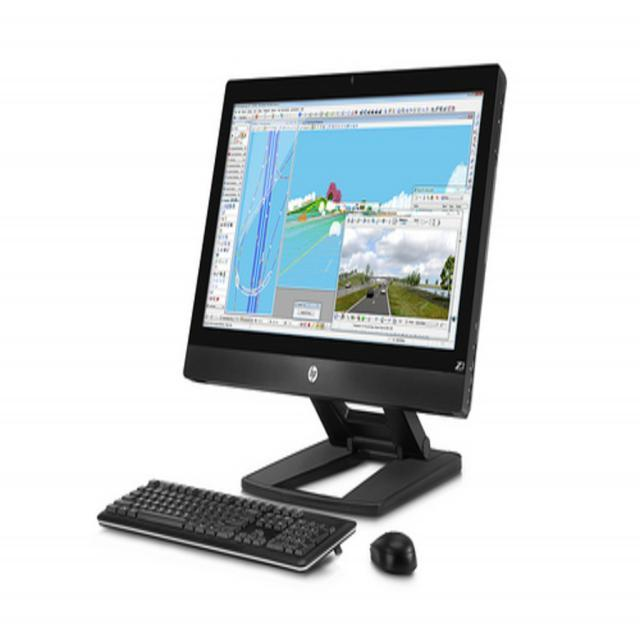others: (82, 56, 525, 591)
